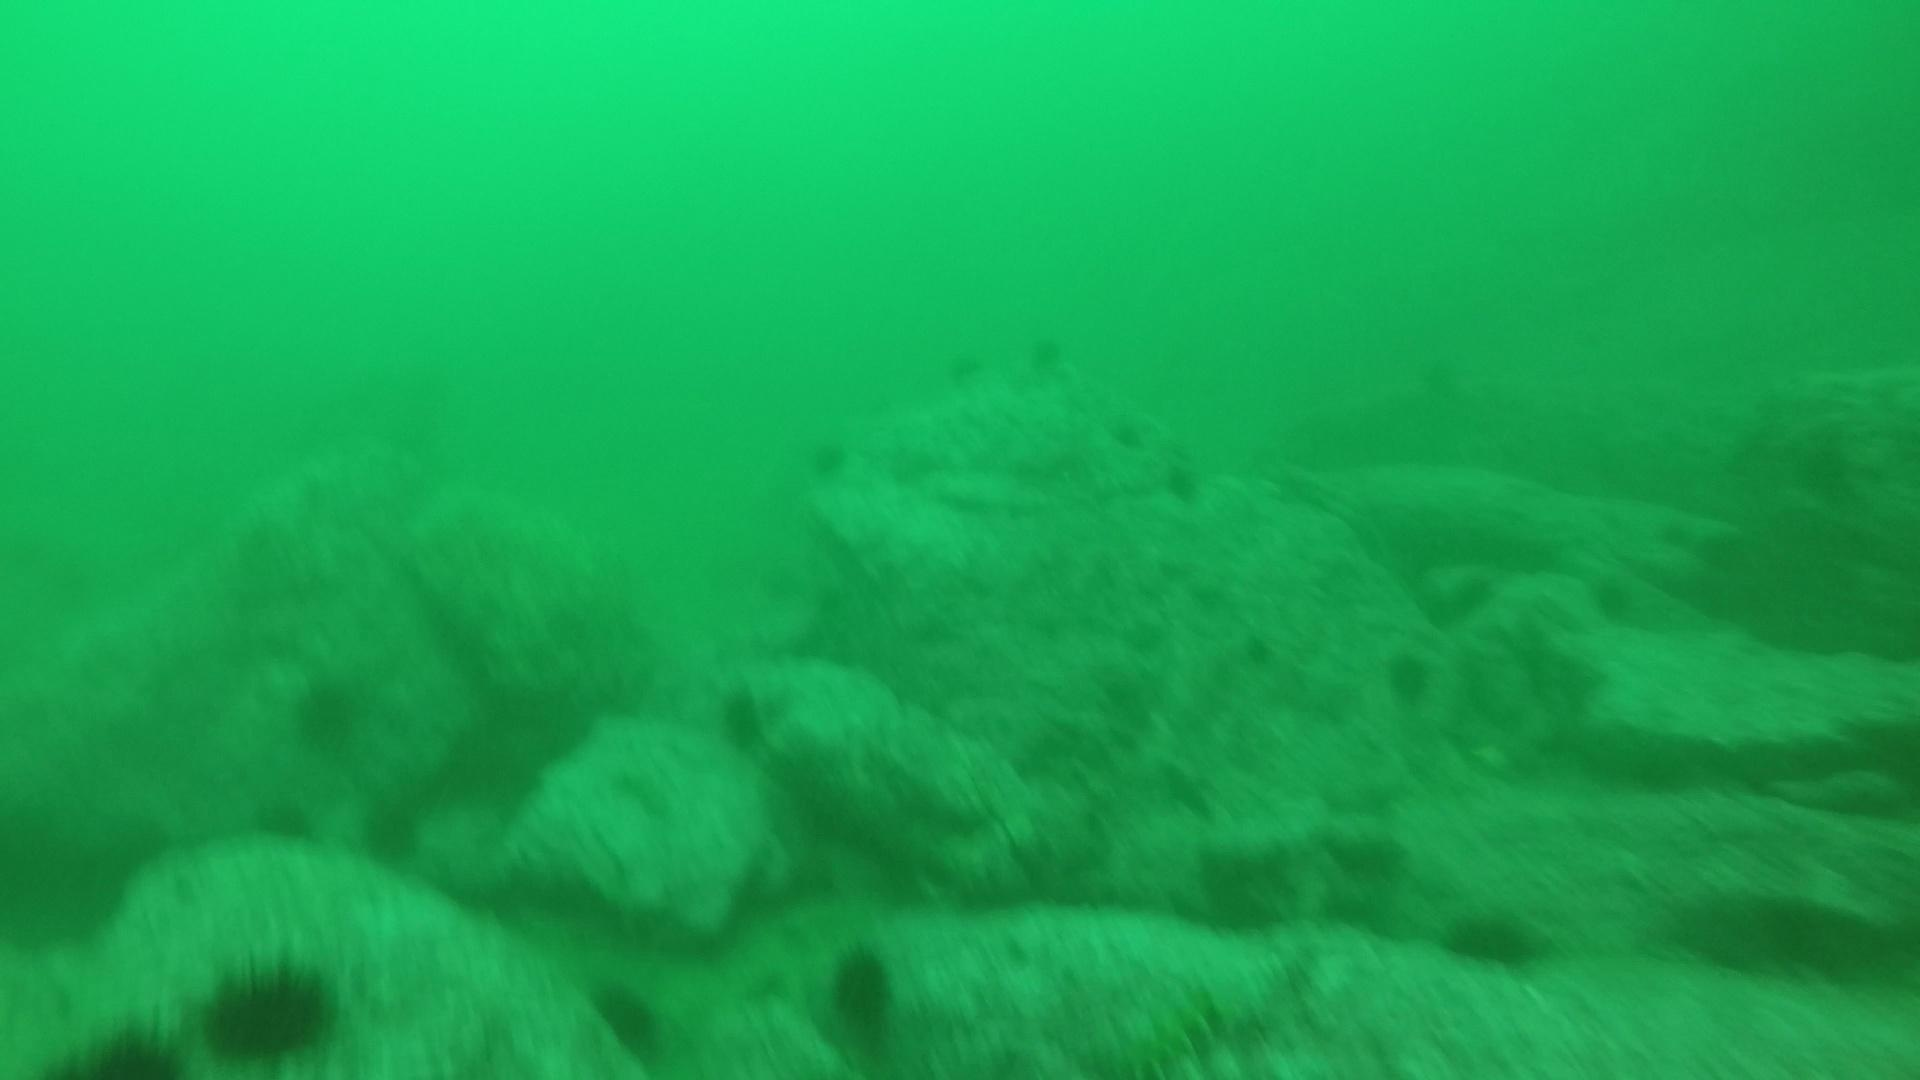echinus: (196, 949, 342, 1068), (818, 940, 905, 1044), (57, 1015, 193, 1077), (1439, 901, 1549, 975), (584, 975, 670, 1063), (286, 669, 369, 752), (353, 793, 429, 872), (711, 682, 775, 756), (251, 790, 320, 851), (1378, 644, 1439, 709), (1155, 462, 1209, 520), (796, 431, 851, 489), (1017, 323, 1071, 381), (1096, 404, 1150, 462), (1448, 568, 1502, 626), (1586, 575, 1640, 633), (1648, 505, 1702, 563), (935, 338, 989, 396), (1234, 622, 1288, 680)
